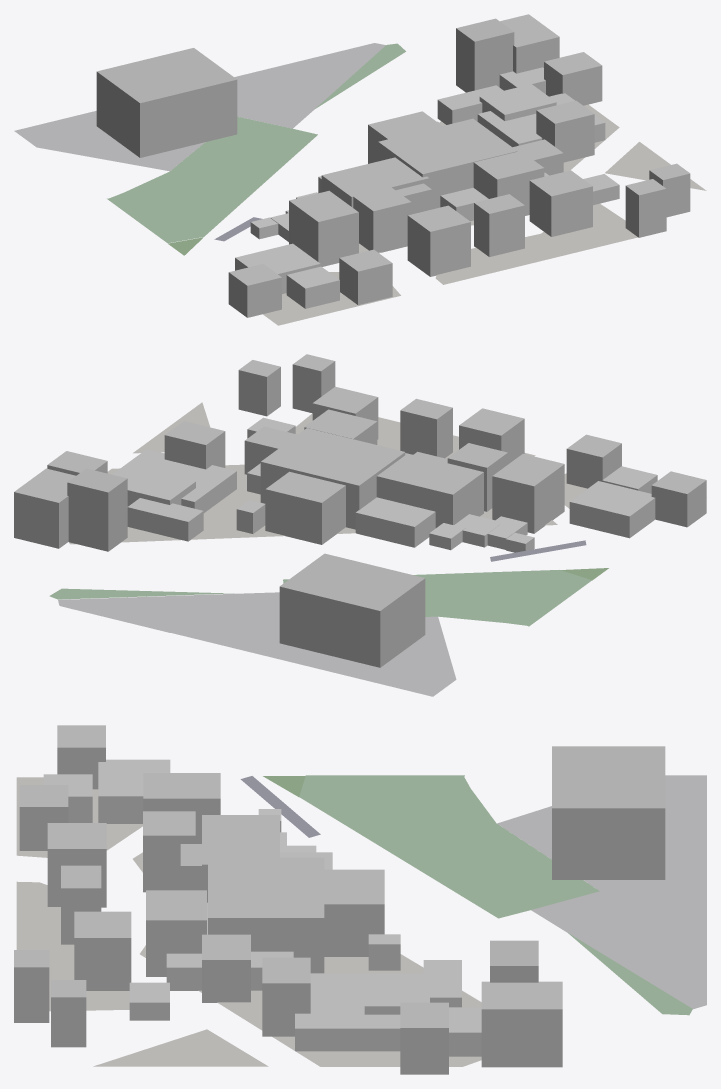
Rendered from 132_87_mid.glb.
3 views of the same model, one above another, from view 1: azimuth 30°, elevation 25°; view 2: azimuth 150°, elevation 25°; view 3: azimuth 270°, elevation 25° (orthographic). The views are drawn at different scales.
Size of the model in its own units: 531 by 61.79 by 502.
